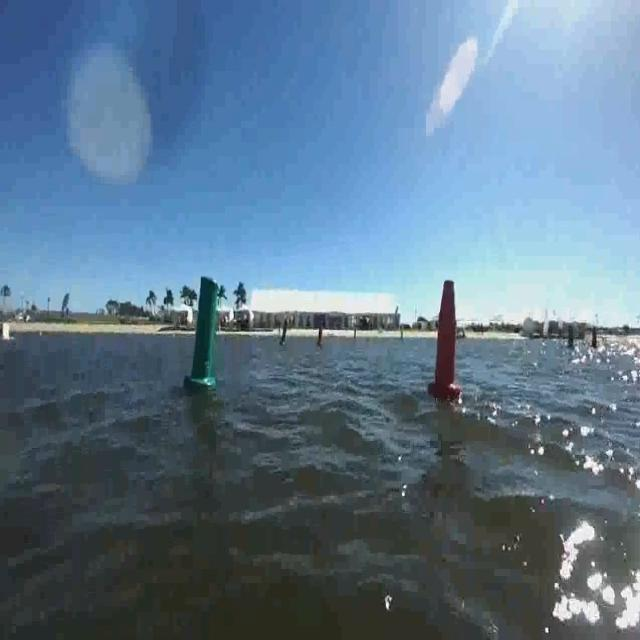green-column-buoy: (186, 276, 220, 392)
red-column-buoy: (429, 276, 462, 400)
